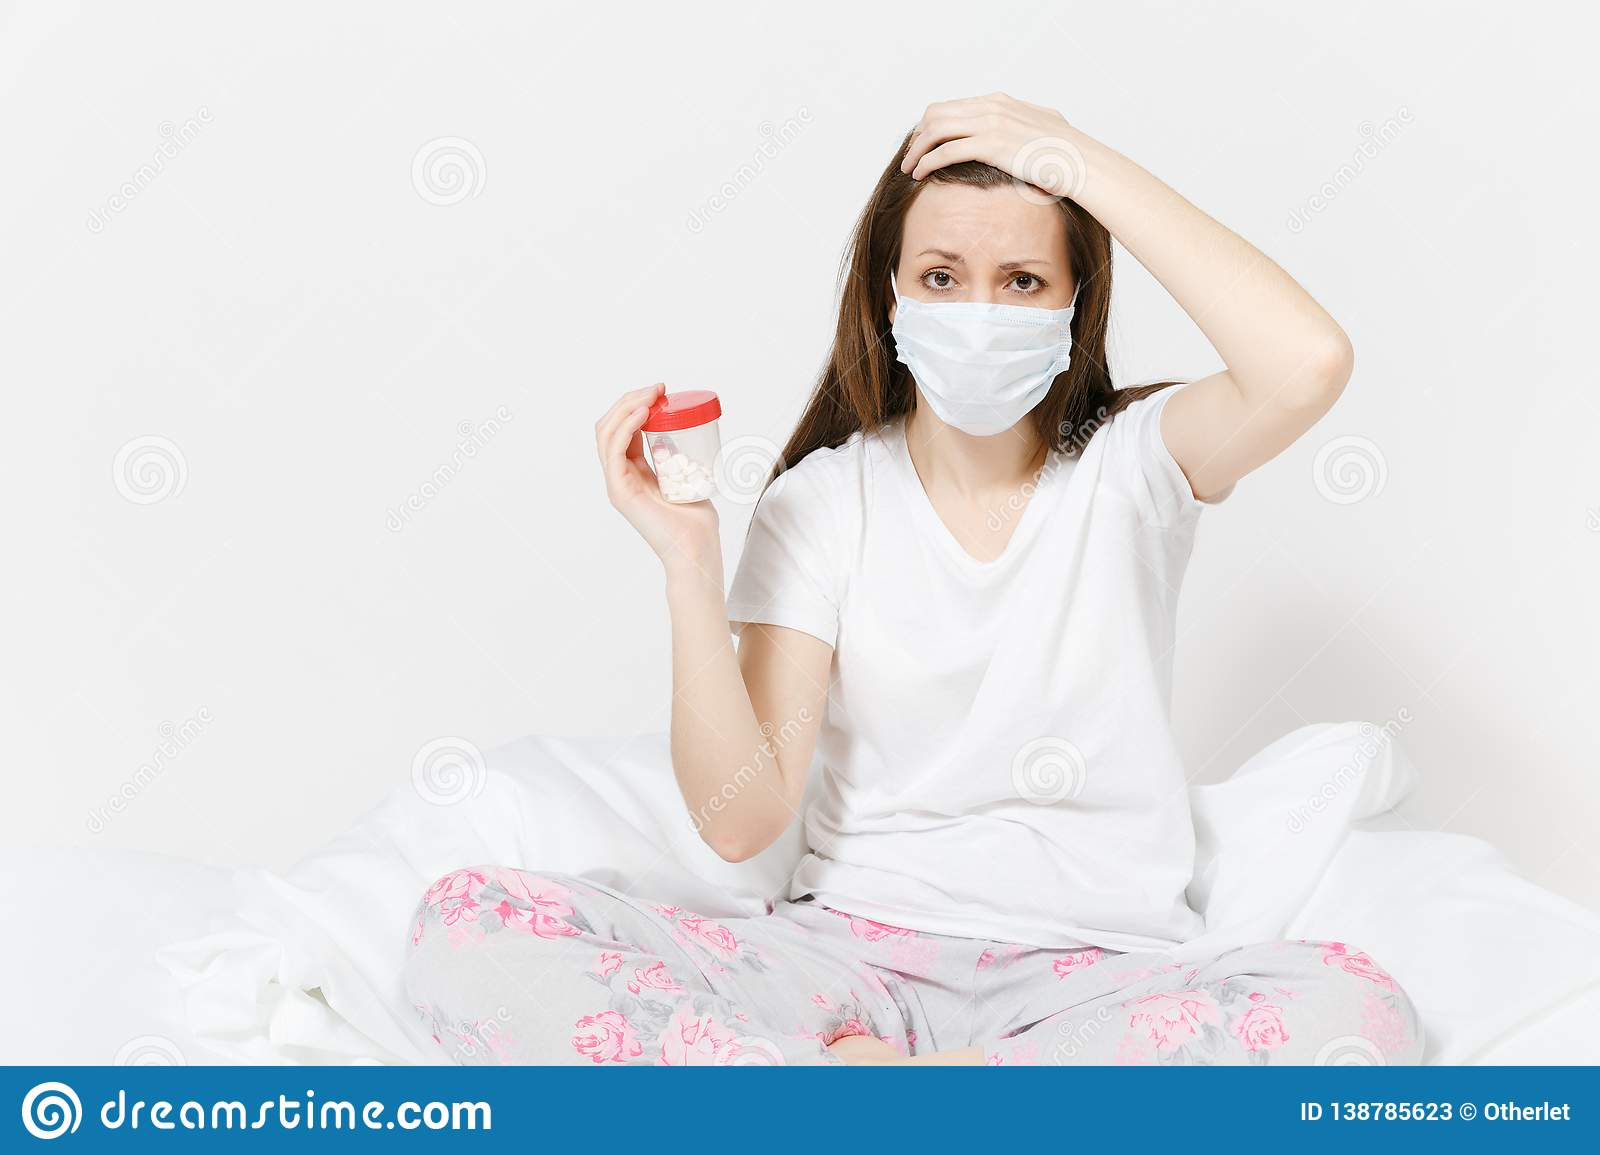mask: (889, 297, 1073, 437)
